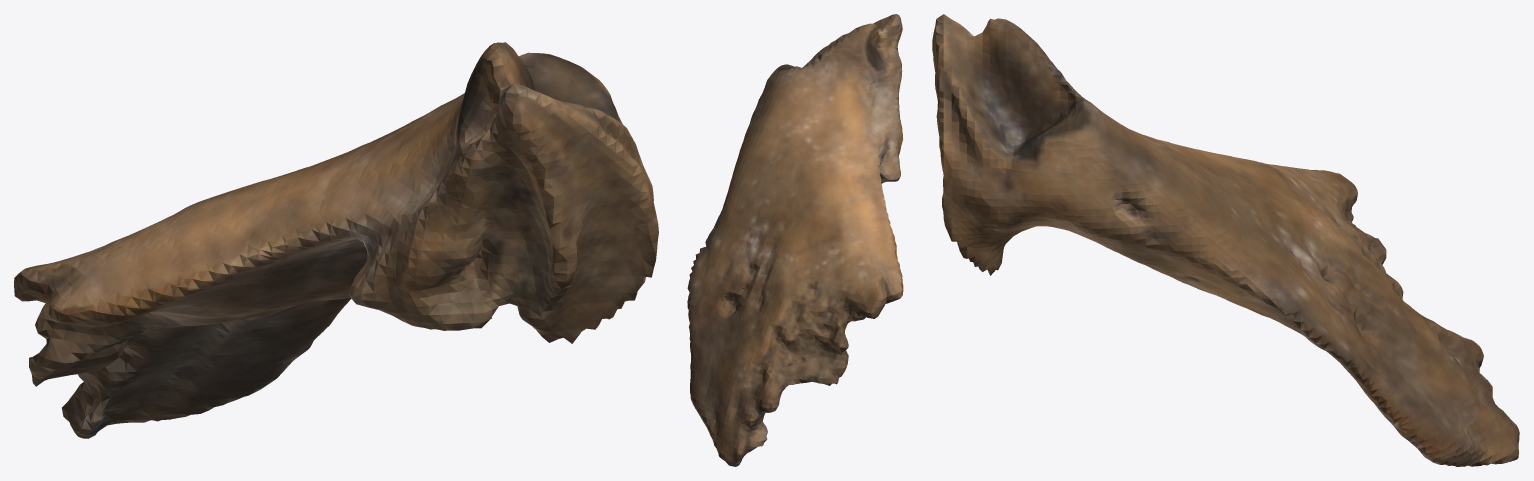
Rendered from MB Lag 4 MAN.obj.
3 renders of one model, left to right at view 1: azimuth 30°, elevation 25°; view 2: azimuth 150°, elevation 25°; view 3: azimuth 270°, elevation 25°, orthographic. The views are drawn at different scales.
Size of the model in its own units: 13.76 by 19.9 by 22.69.
1 material, 1 textured.
